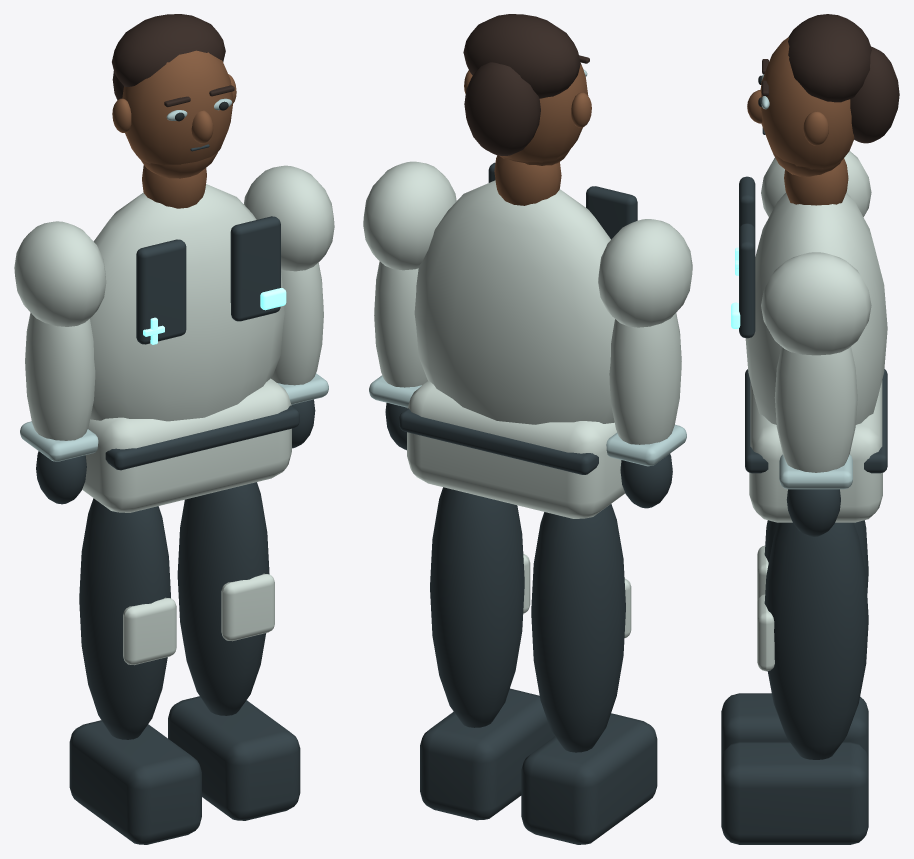
Rendered from npc-imani.glb.
3 renders of one model, left to right at view 1: azimuth 30°, elevation 25°; view 2: azimuth 150°, elevation 25°; view 3: azimuth 270°, elevation 25°, orthographic. The views are drawn at different scales.
Visible parts, largest first — view 1: Coat torso, Trouser, Trouser.001, Coat hem, Boot, Boot.001, Face, Shoulder, Sleeve, Shoulder.001, Hair cap, Lapel (+11 smaller); view 2: Coat torso, Trouser, Trouser.001, Coat hem, Boot, Boot.001, Shoulder, Sleeve, Shoulder.001, Hair cap, Tied hair, Sleeve.001 (+8 smaller); view 3: Trouser.001, Boot.001, Coat torso, Shoulder.001, Sleeve.001, Coat hem, Face, Hair cap, Boot, Tied hair, Glove.001, Neck (+11 smaller).
Part boxes in pixels (x1,y1,x2,y2): Coat torso: (90,184,284,421); Trouser: (79,498,170,739); Trouser.001: (177,482,269,715); Coat hem: (82,378,291,512); Boot: (69,720,201,844); Boot.001: (168,696,300,820); Face: (122,50,233,165); Shoulder: (14,221,106,326); Sleeve: (25,312,95,440); Shoulder.001: (244,165,334,271); Hair cap: (112,14,225,86); Lapel: (136,239,186,344); Coat torso: (414,180,614,424); Trouser: (531,504,625,752); Trouser.001: (430,487,524,727); Coat hem: (407,380,625,518); Boot: (521,713,657,844); Boot.001: (420,688,554,820); Shoulder: (598,219,692,327); Sleeve: (609,313,681,444); Shoulder.001: (363,161,456,270); Hair cap: (463,14,580,98); Tied hair: (464,62,540,155); Sleeve.001: (374,261,427,387); Trouser.001: (764,522,868,759); Boot.001: (721,742,868,844); Coat torso: (745,192,887,424); Shoulder.001: (761,252,871,355); Sleeve.001: (774,346,857,472); Coat hem: (749,380,882,522); Face: (760,37,854,169); Hair cap: (788,14,871,102); Boot: (721,693,868,759); Tied hair: (850,46,899,143); Glove.001: (786,489,840,536); Neck: (784,158,848,205).
Bounding box in the file's own units: 0.772 × 1.88 × 0.387.
